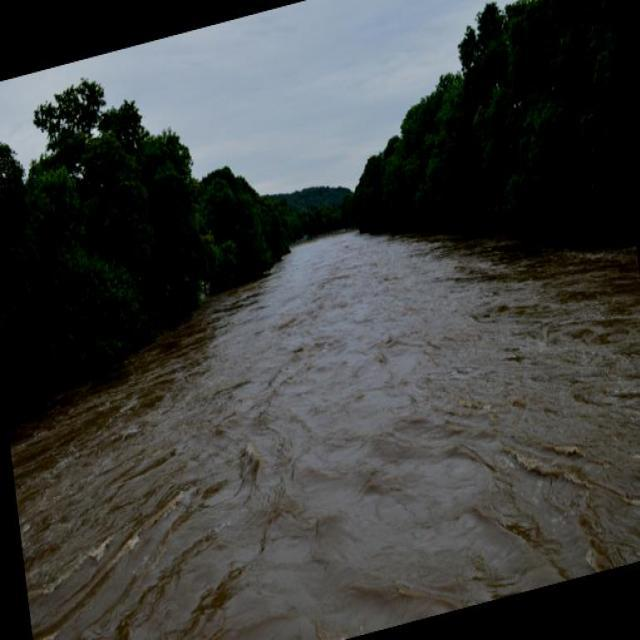flood: (0, 155, 639, 639)
